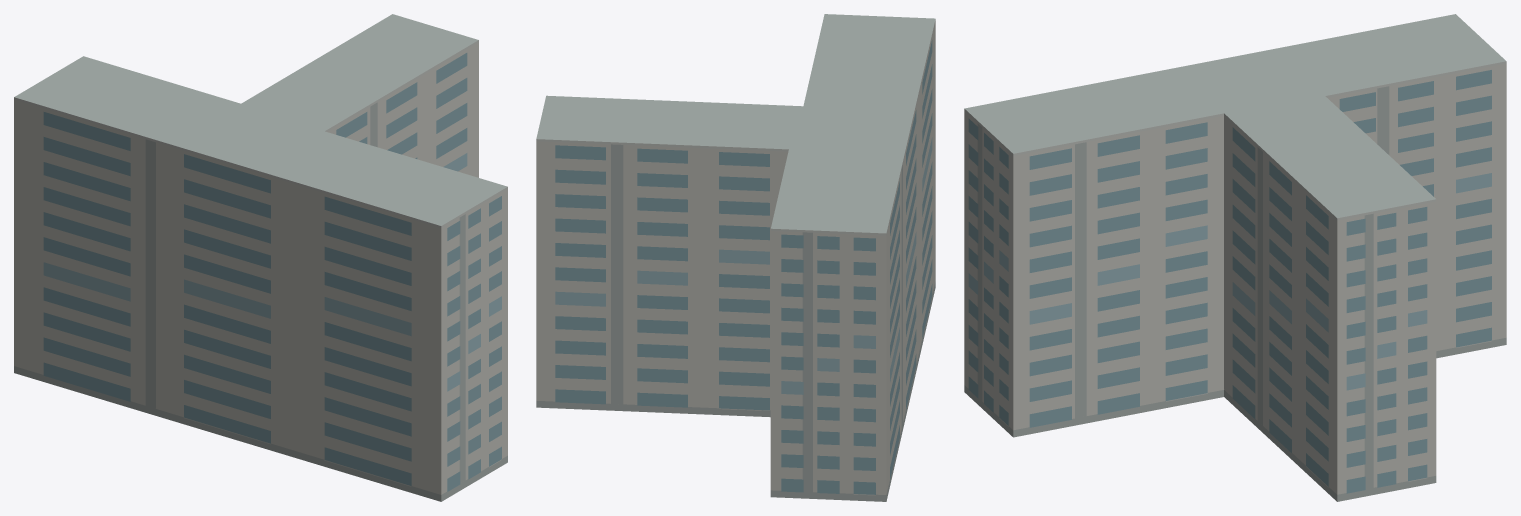
The model's file is residential-cfb34998-ec56-4fd2-86ad-930d73857ae6.glb.
The picture shows the model from 3 angles, left to right: view 1: azimuth 30°, elevation 25°; view 2: azimuth 150°, elevation 25°; view 3: azimuth 270°, elevation 25°; orthographic projection. The views are drawn at different scales.
Visible parts, largest first — view 1: residential-cfb34998-ec56-4fd2-86ad-930d73857ae6.tmp; view 2: residential-cfb34998-ec56-4fd2-86ad-930d73857ae6.tmp; view 3: residential-cfb34998-ec56-4fd2-86ad-930d73857ae6.tmp.
Part boxes in pixels (<box>): residential-cfb34998-ec56-4fd2-86ad-930d73857ae6.tmp: <box>14,14,507,501</box>; residential-cfb34998-ec56-4fd2-86ad-930d73857ae6.tmp: <box>536,14,935,501</box>; residential-cfb34998-ec56-4fd2-86ad-930d73857ae6.tmp: <box>964,14,1506,501</box>.
Bounding box in the file's own units: 44.81 × 29 × 50.25.
